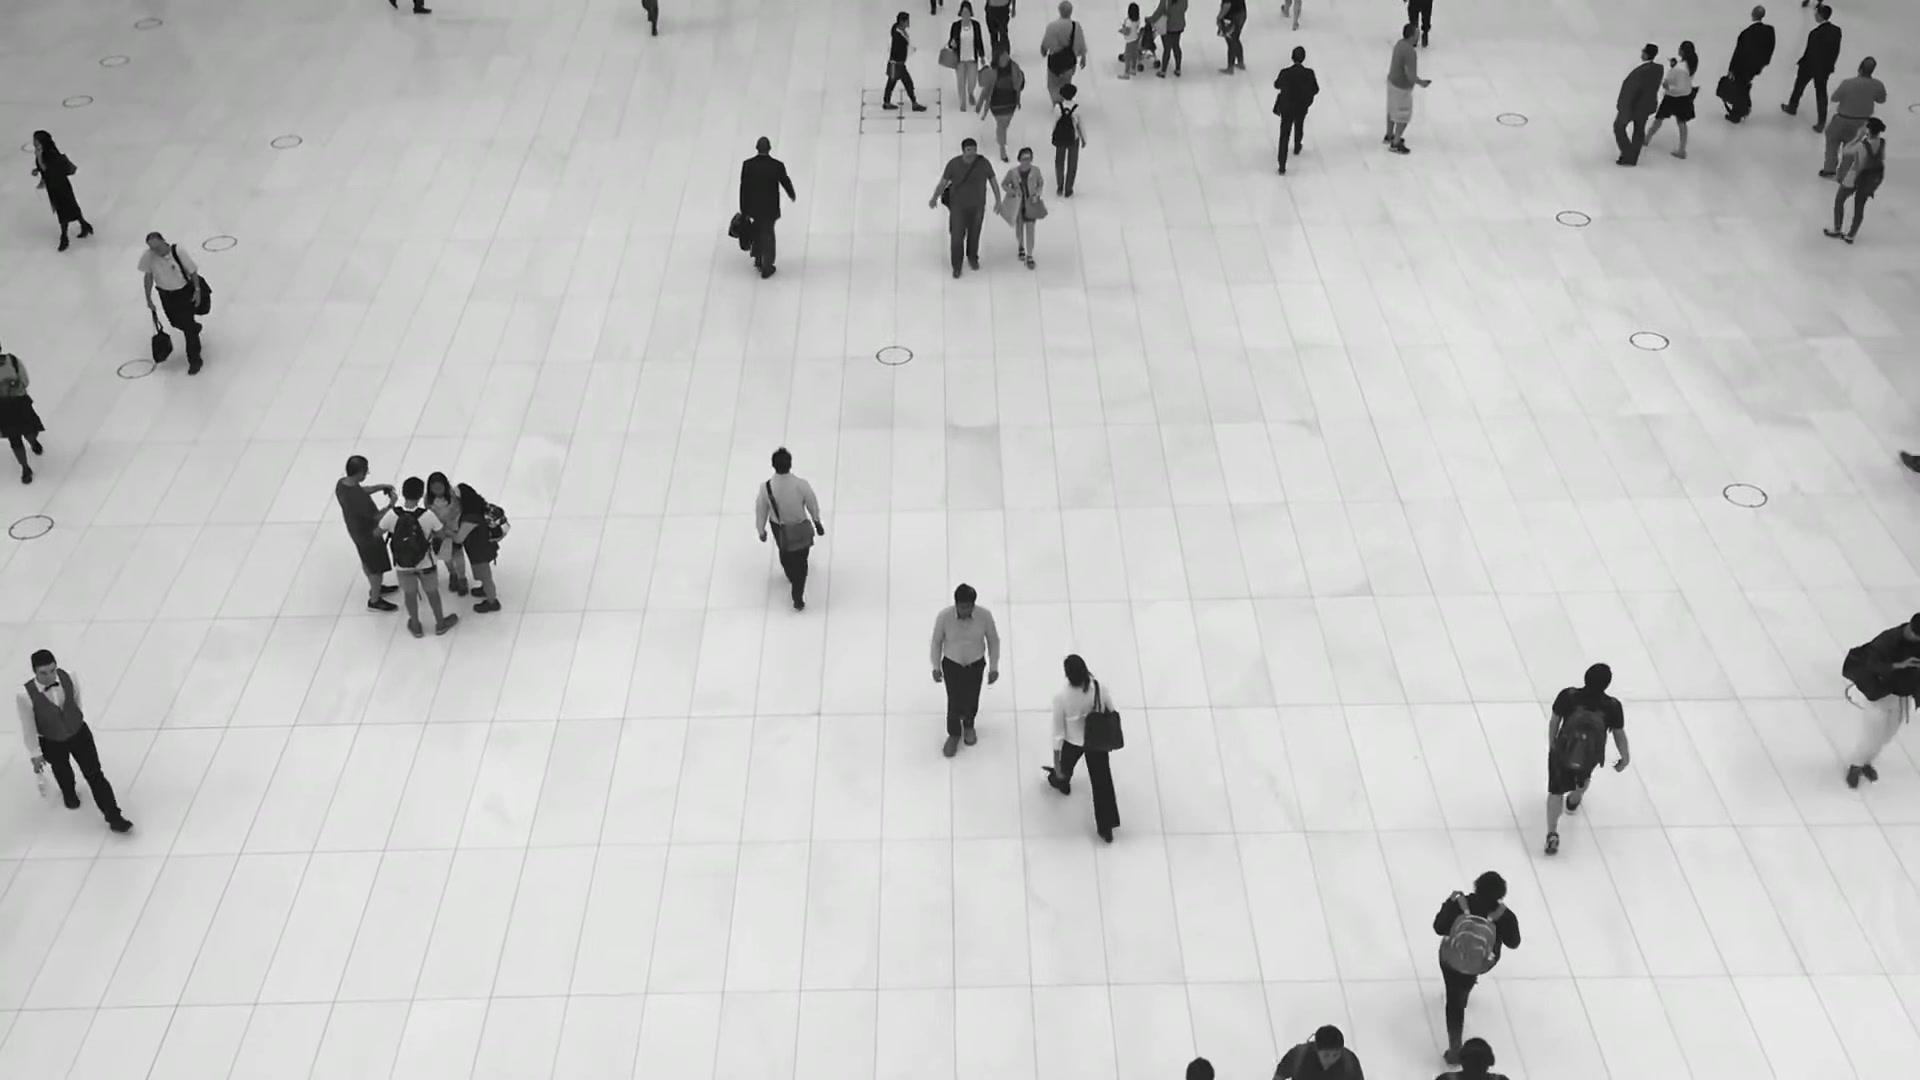person: (15, 646, 135, 831), (1431, 869, 1522, 1067), (1543, 662, 1630, 855), (1040, 650, 1115, 837), (1846, 611, 1920, 789), (380, 477, 460, 635), (930, 582, 1001, 758), (754, 446, 824, 610), (136, 230, 211, 376), (928, 137, 1002, 279), (333, 455, 399, 608), (1828, 118, 1896, 251), (1817, 55, 1887, 178), (738, 135, 796, 280), (1781, 4, 1842, 133), (31, 128, 94, 252), (1715, 4, 1776, 124), (449, 481, 502, 613), (0, 341, 47, 486), (1380, 24, 1431, 155), (1643, 40, 1698, 160), (1611, 43, 1664, 168), (1272, 45, 1320, 177), (423, 469, 469, 592), (1000, 147, 1044, 271), (975, 47, 1023, 161), (1271, 1023, 1366, 1080), (1039, 0, 1089, 106), (1049, 82, 1089, 198), (881, 11, 927, 112), (947, 0, 985, 112), (1115, 2, 1139, 79)
